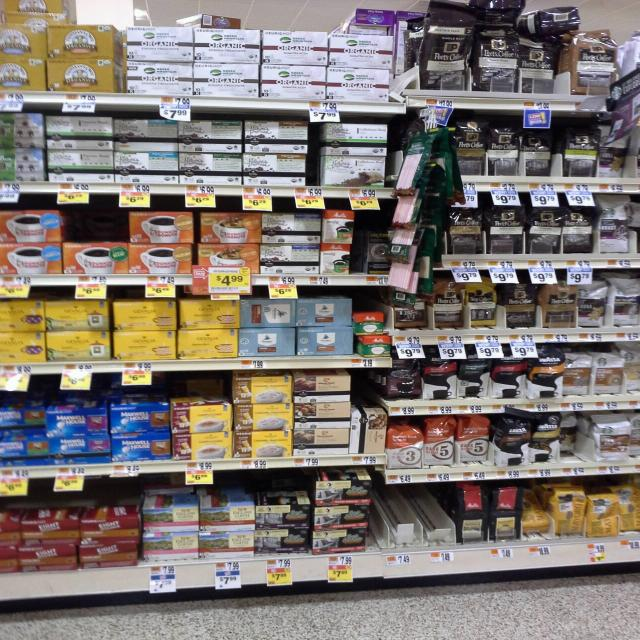empty_space: (73, 207, 123, 237), (385, 487, 413, 537), (427, 489, 449, 535)
